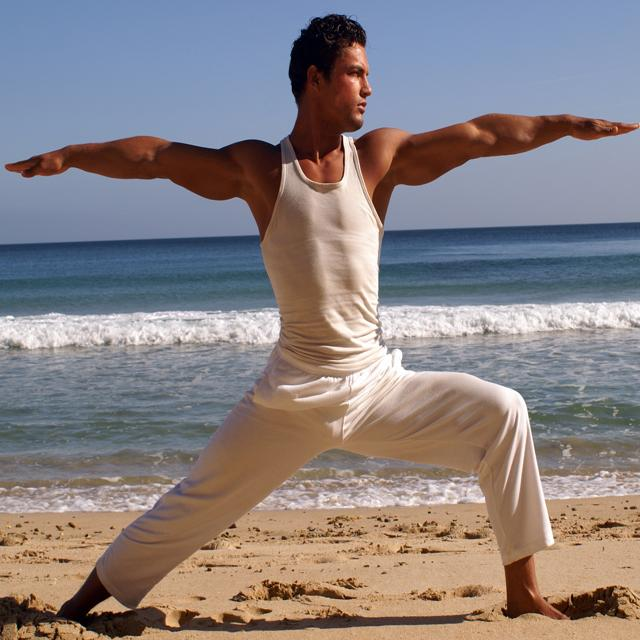Warrior_II: (10, 13, 640, 624)
